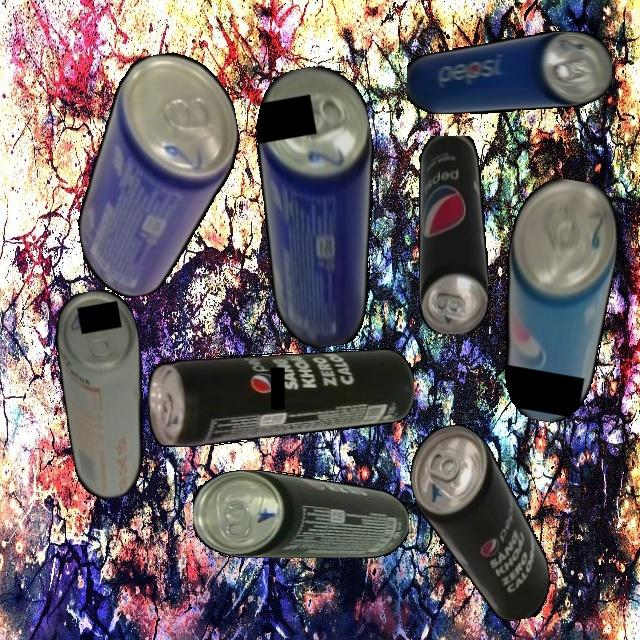debris: (52, 44, 263, 304), (237, 59, 406, 354), (481, 172, 628, 428), (403, 414, 556, 633), (147, 349, 414, 447), (46, 285, 165, 503), (193, 469, 409, 558), (406, 31, 612, 114), (418, 135, 488, 334)
